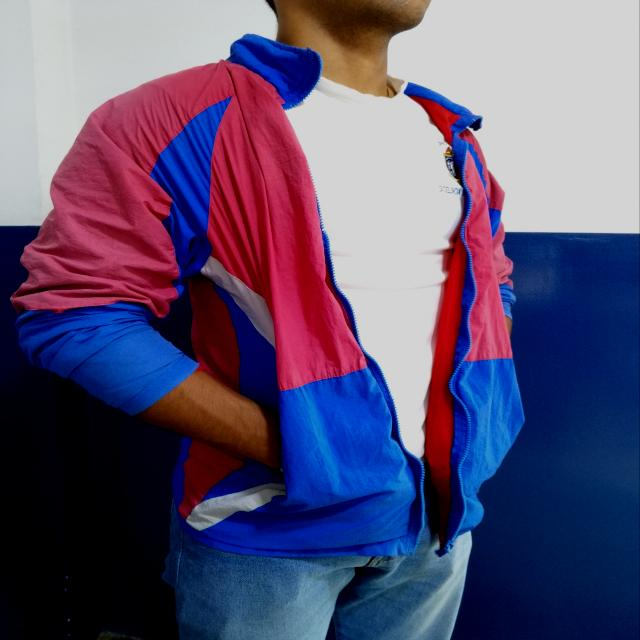chaqueta_unefa: (8, 32, 527, 559)
